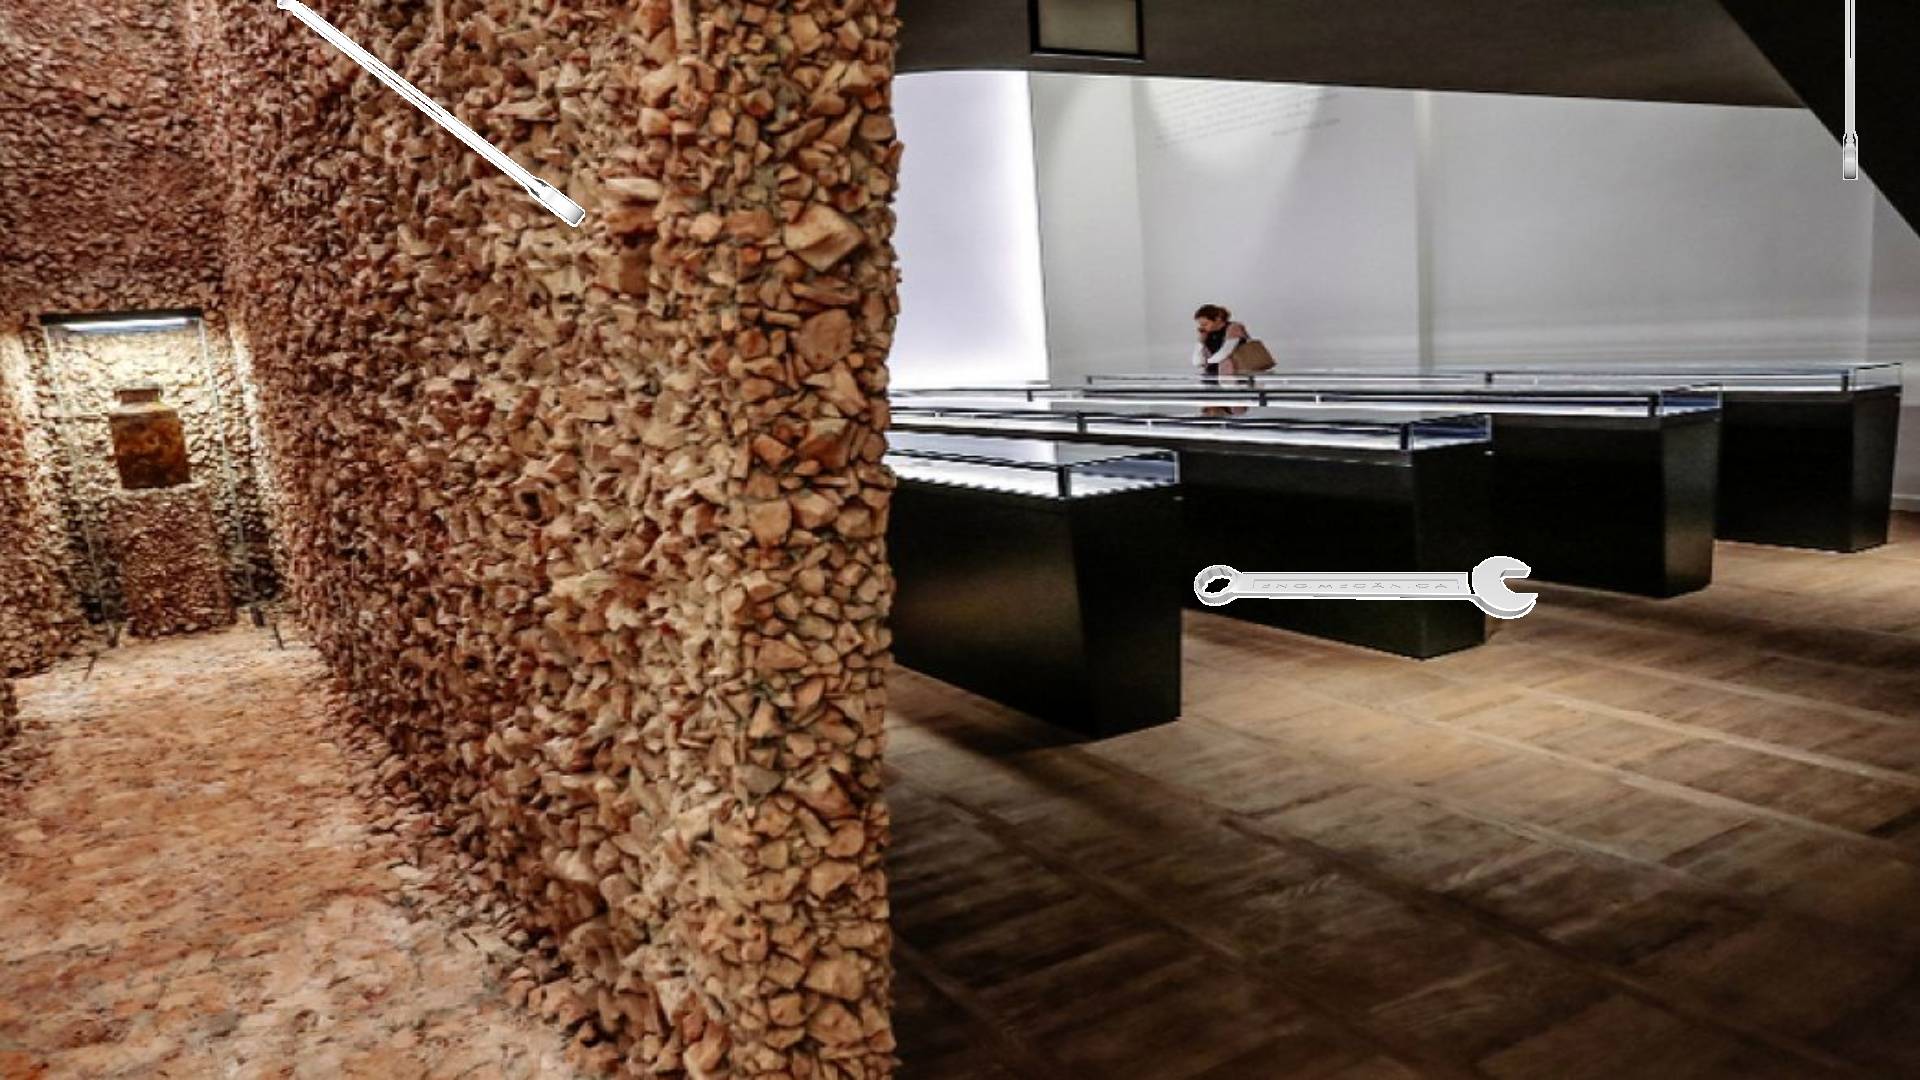Mixed Key: (277, 0, 584, 225), (1193, 556, 1538, 618), (1844, 0, 1857, 179)
